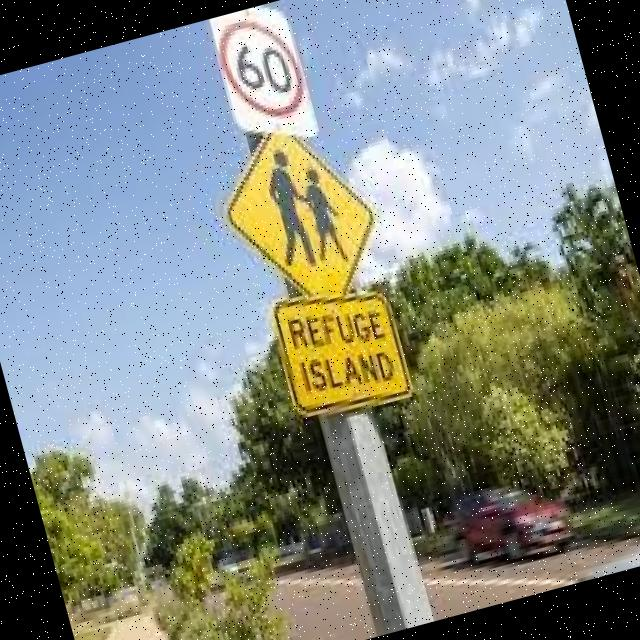speed_limit_60: (209, 0, 318, 129)
